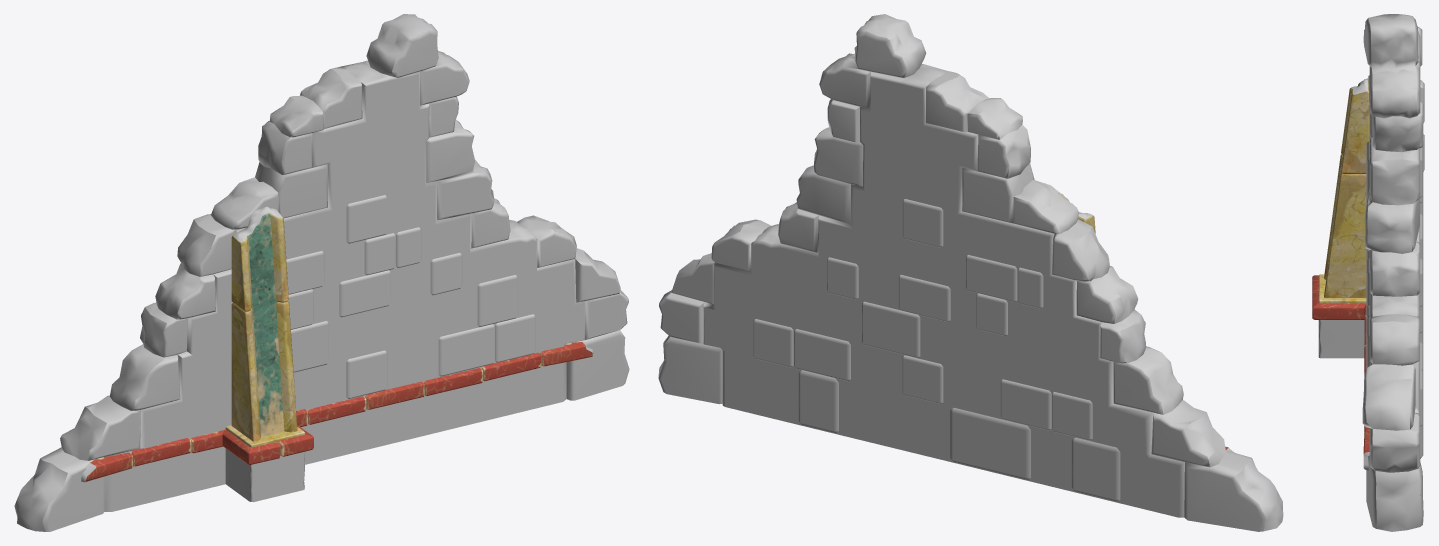
The picture shows the model from 3 angles, left to right: view 1: azimuth 30°, elevation 25°; view 2: azimuth 150°, elevation 25°; view 3: azimuth 270°, elevation 25°; orthographic projection.
Visible parts, largest first — view 1: SM_Menaphite_Ruins_08_LOD0; view 2: SM_Menaphite_Ruins_08_LOD0; view 3: SM_Menaphite_Ruins_08_LOD0.
Boxes of the visible parts, <box> form: SM_Menaphite_Ruins_08_LOD0: <box>14,14,629,531</box>; SM_Menaphite_Ruins_08_LOD0: <box>658,14,1283,531</box>; SM_Menaphite_Ruins_08_LOD0: <box>1312,14,1424,531</box>.
Bounding box in the file's own units: 13.87 × 8.91 × 2.22.
